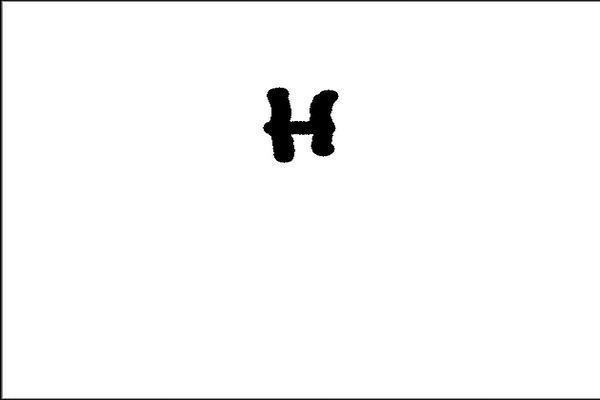H: (258, 78, 346, 165)
